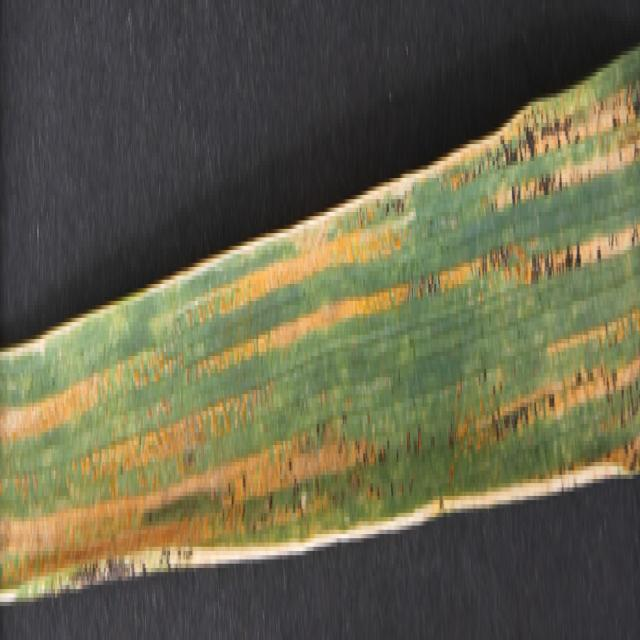leaf rust: (1, 178, 414, 602)
